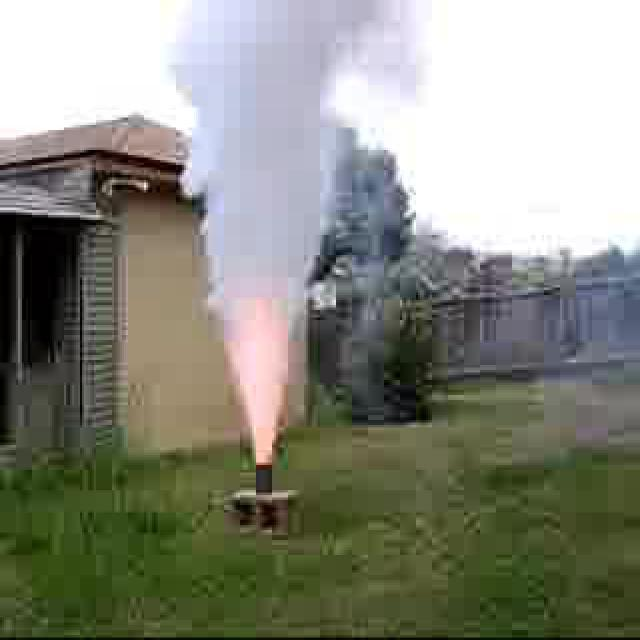Smoke: (182, 5, 328, 457)
